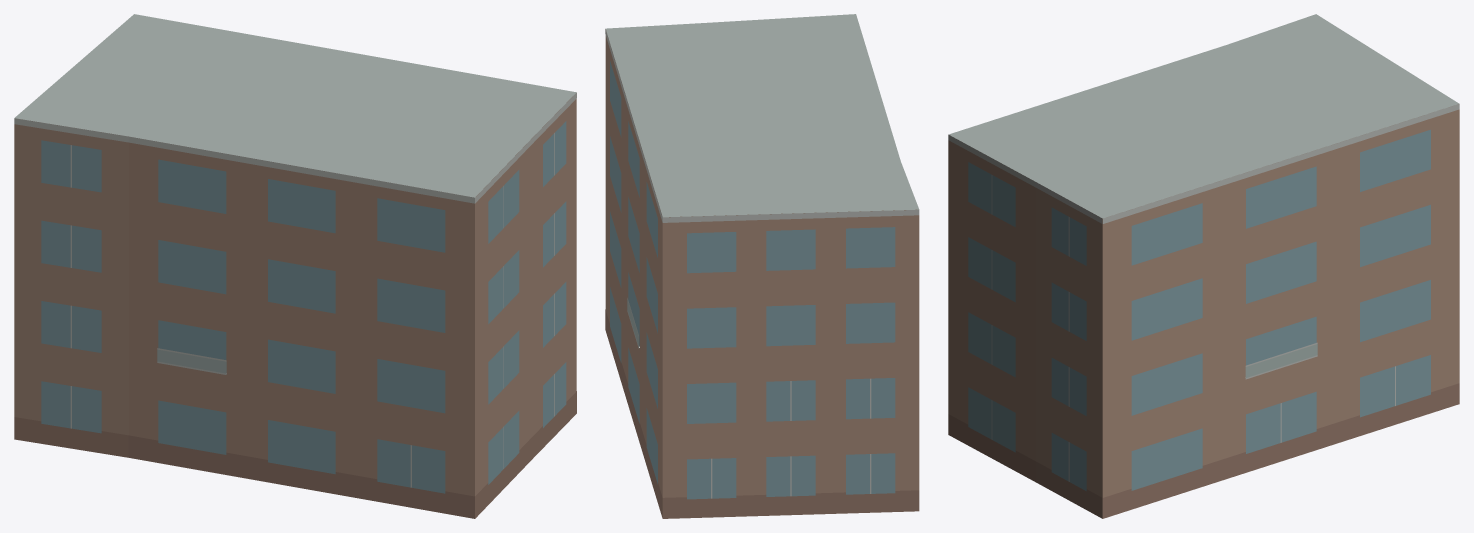
The model's file is survey-upis-33045573.glb.
The picture shows the model from 3 angles, left to right: view 1: azimuth 30°, elevation 25°; view 2: azimuth 150°, elevation 25°; view 3: azimuth 270°, elevation 25°; orthographic projection. The views are drawn at different scales.
Parts seen in each view (by area): view 1: survey-upis-33045573.tmp; view 2: survey-upis-33045573.tmp; view 3: survey-upis-33045573.tmp.
Part boxes in pixels (x1=…): survey-upis-33045573.tmp: x1=14, y1=14, x2=576, y2=518; survey-upis-33045573.tmp: x1=605, y1=14, x2=919, y2=518; survey-upis-33045573.tmp: x1=948, y1=14, x2=1459, y2=518.
Size of the model in its own units: 19 by 13 by 20.06.
